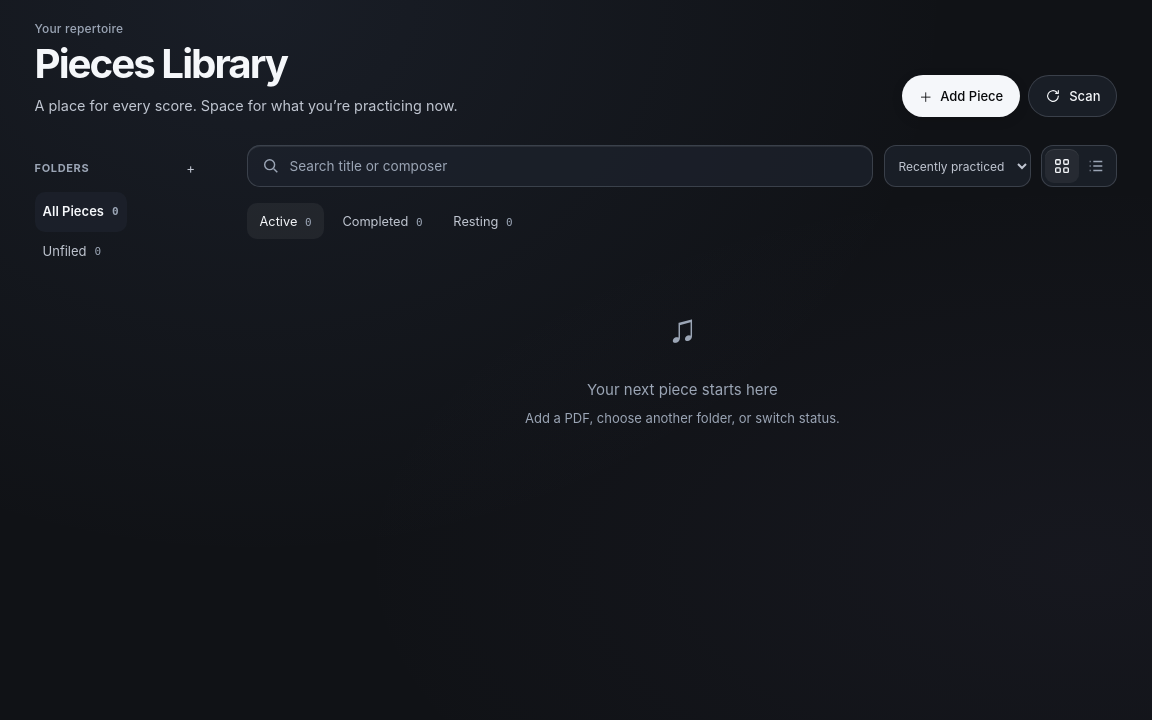
Test: PiecesPanel › rescans via pieces_scan when the scan button is clicked
Expected: the text "Your next piece starts here" is shown, [587, 380, 778, 399]
Click the button with aria-label "Rescan pieces folder" at point(1073, 96), box [1028, 76, 1117, 118]
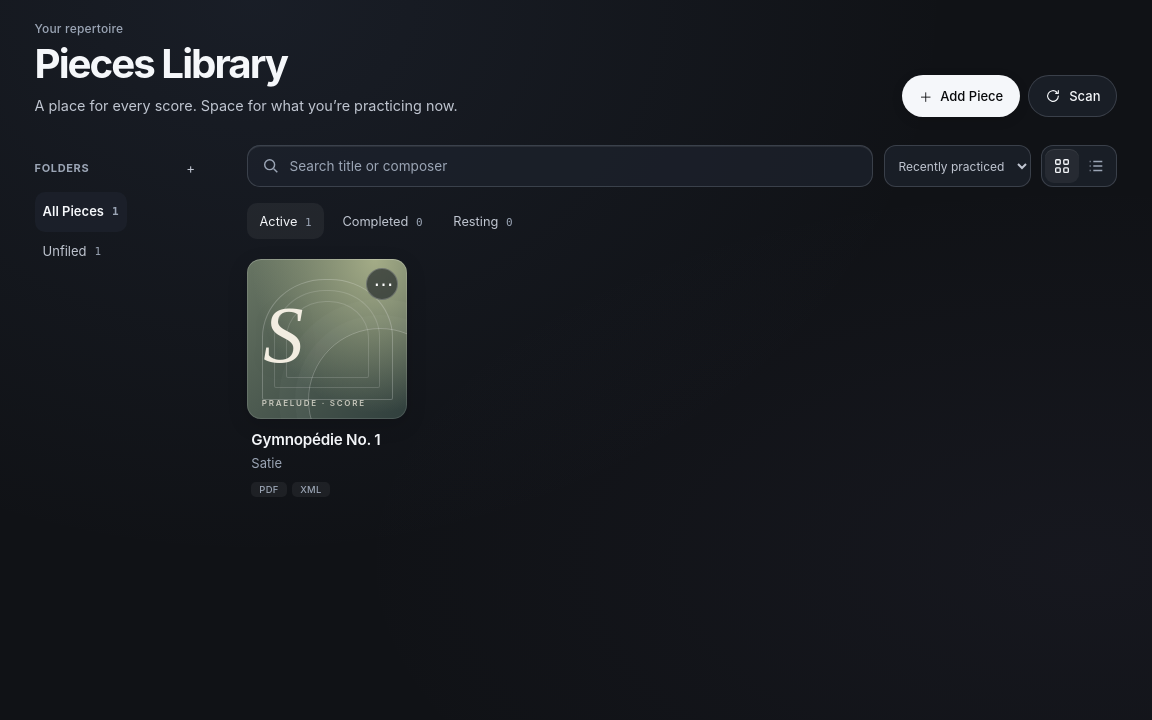
Now the text "Gymnopédie No. 1" is shown, box [251, 430, 403, 450]
